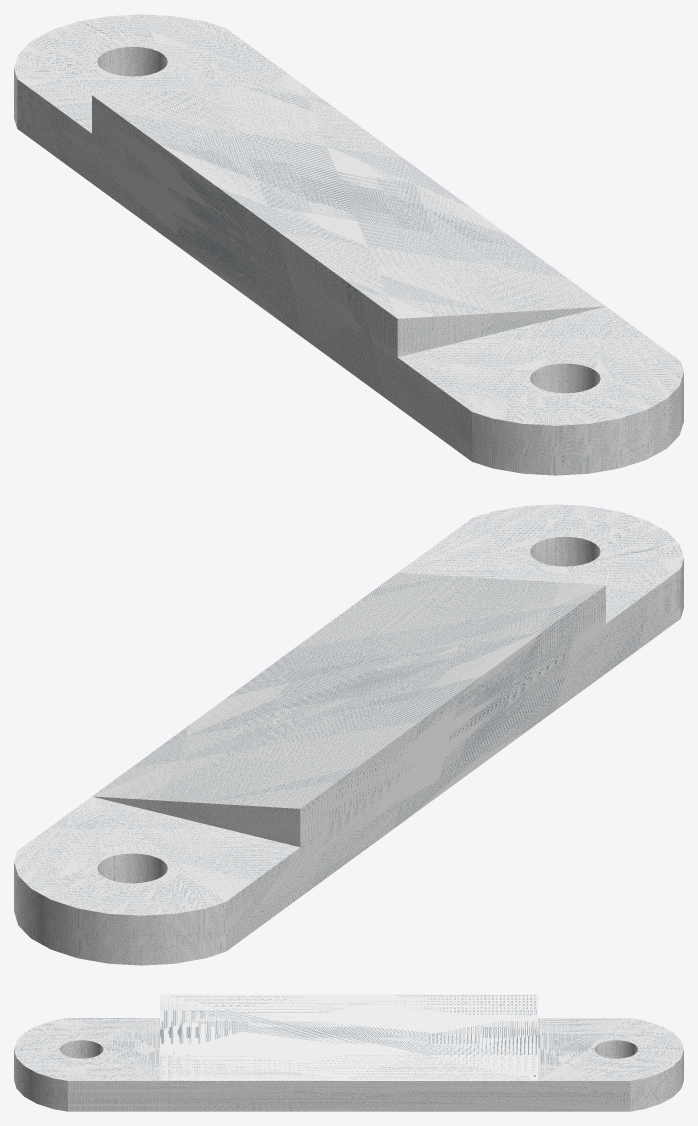
The model's file is camera_base.dae.
The picture shows the model from 3 angles, top to bottom: view 1: azimuth 30°, elevation 25°; view 2: azimuth 150°, elevation 25°; view 3: azimuth 270°, elevation 25°; orthographic projection. The views are drawn at different scales.
Visible parts, largest first — view 1: SketchUp (×3); view 2: SketchUp (×3); view 3: SketchUp (×3).
Part boxes in pixels (x1=…): SketchUp (×3): x1=14, y1=14, x2=683, y2=475; SketchUp (×3): x1=14, y1=504, x2=683, y2=965; SketchUp (×3): x1=14, y1=994, x2=683, y2=1111.
Size of the model in its own units: 0.3102 by 1.4 by 0.1256.
